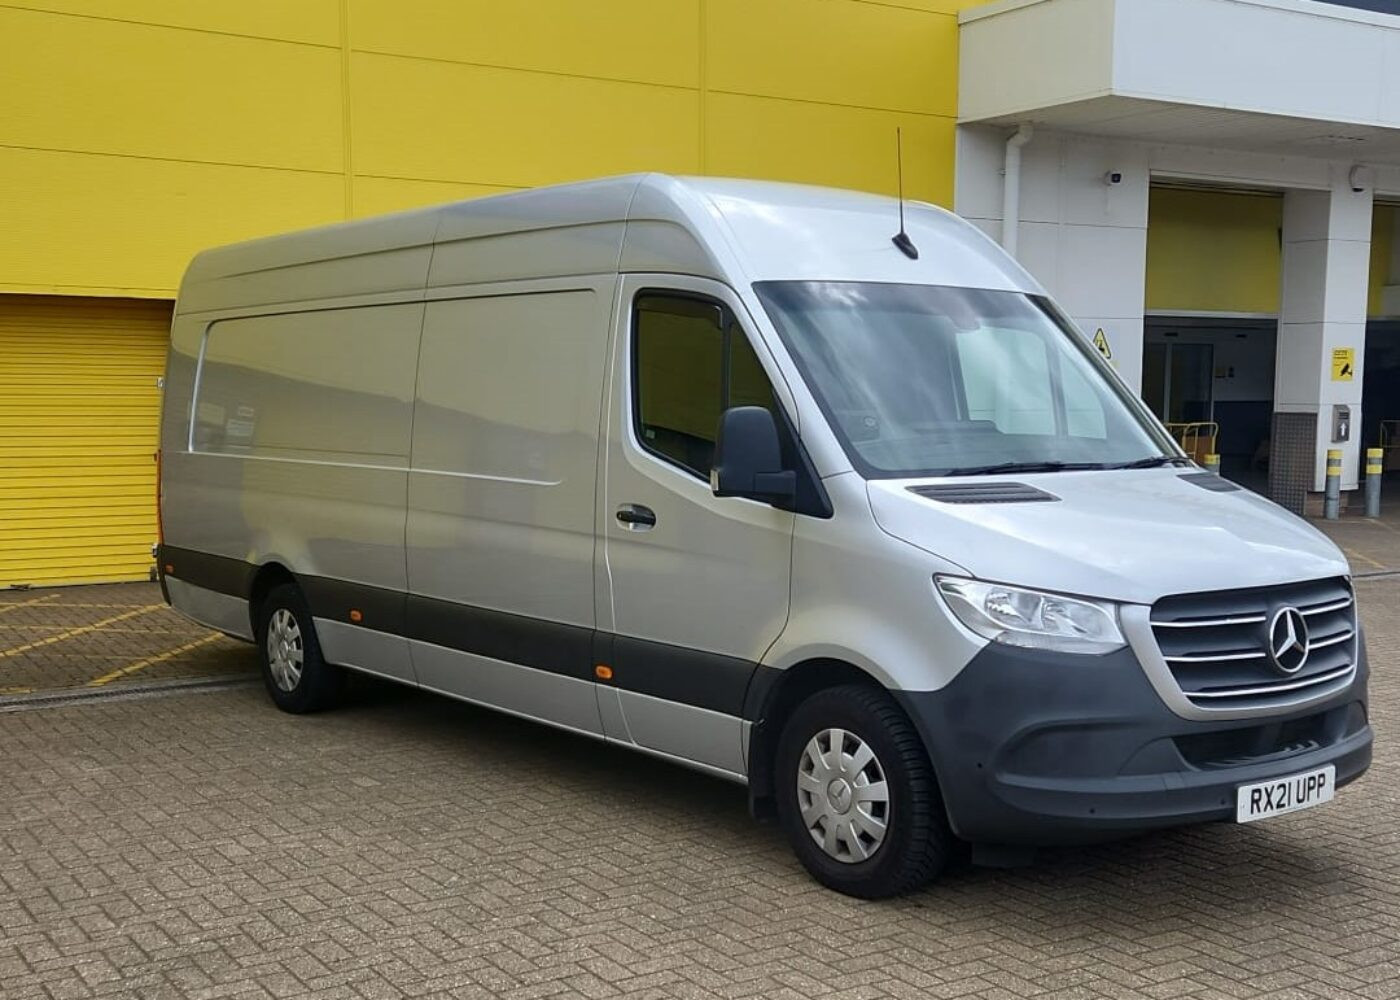van: (147, 165, 1374, 897)
